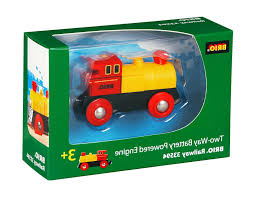brio: (75, 51, 184, 129)
